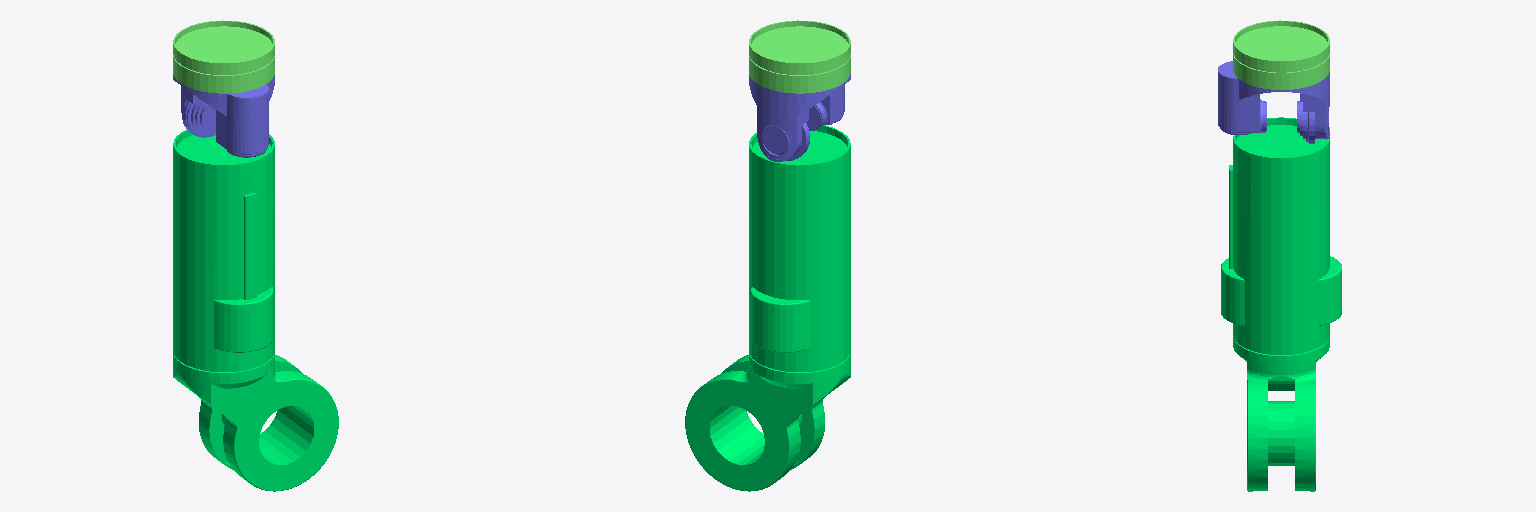
URDF robot description (WAM_URDF):
<robot
  name="WAM_URDF">
  <link
    name="wam_base">
    <inertial>
      <origin
        xyz="0.128100378751 0.140050620353168 0.0674748862235675"
        rpy="0 0 0" />
      <mass
        value="2.67334422899553" />
      <inertia
        ixx="0.0339063248578931"
        ixy="-1.70259359224035E-05"
        ixz="-0.00415581153259521"
        iyy="0.0421275847678088"
        iyz="-4.62615890481681E-06"
        izz="0.0554123689090636" />
    </inertial>
    <visual>
      <origin
        xyz="0 0 0"
        rpy="0 0 0" />
      <geometry>
        <mesh
          filename="package://WAM_URDF/meshes/wam_base.STL" />
      </geometry>
      <material
        name="">
        <color
          rgba="1 0 0 0.0499999999999999" />
      </material>
    </visual>
    <collision>
      <origin
        xyz="0 0 0"
        rpy="0 0 0" />
      <geometry>
        <mesh
          filename="package://WAM_URDF/meshes/wam_base.STL" />
      </geometry>
    </collision>
  </link>
  <link
    name="wam1">
    <inertial>
      <origin
        xyz="2.47322933838584E-08 -2.96918586208124E-09 -0.0794969740283547"
        rpy="0 0 0" />
      <mass
        value="12.6535414859626" />
      <inertia
        ixx="0.199822402581019"
        ixy="8.47009166946166E-08"
        ixz="-3.73911497625684E-08"
        iyy="0.107087726204064"
        iyz="2.75172142196796E-09"
        izz="0.171850063229757" />
    </inertial>
    <visual>
      <origin
        xyz="0 0 0"
        rpy="0 0 0" />
      <geometry>
        <mesh
          filename="package://WAM_URDF/meshes/wam1.STL" />
      </geometry>
      <material
        name="">
        <color
          rgba="0.501960784313725 0.501960784313725 0.501960784313725 0.0499999999999999" />
      </material>
    </visual>
    <collision>
      <origin
        xyz="0 0 0"
        rpy="0 0 0" />
      <geometry>
        <mesh
          filename="package://WAM_URDF/meshes/wam1.STL" />
      </geometry>
    </collision>
  </link>
  <joint
    name="j1"
    type="continuous">
    <origin
      xyz="0.22 0.14 0.346"
      rpy="-1.11266916865798E-16 0 0" />
    <parent
      link="wam_base" />
    <child
      link="wam1" />
    <axis
      xyz="0 0 -1" />
  </joint>
  <link
    name="wam2">
    <inertial>
      <origin
        xyz="-1.68500531002895E-06 -0.0504690286262692 1.0317185817269E-06"
        rpy="0 0 0" />
      <mass
        value="0.437815219798137" />
      <inertia
        ixx="0.00161441364764365"
        ixy="-3.33213428010297E-08"
        ixz="-3.42708638284823E-08"
        iyy="0.00132132178685251"
        iyz="-8.89408494101075E-09"
        izz="0.00183374073419955" />
    </inertial>
    <visual>
      <origin
        xyz="0 0 0"
        rpy="0 0 0" />
      <geometry>
        <mesh
          filename="package://WAM_URDF/meshes/wam2.STL" />
      </geometry>
      <material
        name="">
        <color
          rgba="0.937254901960784 0.674509803921569 0.113725490196078 1" />
      </material>
    </visual>
    <collision>
      <origin
        xyz="0 0 0"
        rpy="0 0 0" />
      <geometry>
        <mesh
          filename="package://WAM_URDF/meshes/wam2.STL" />
      </geometry>
    </collision>
  </link>
  <joint
    name="j2"
    type="continuous">
    <origin
      xyz="0 0 0"
      rpy="-1.5707963267949 -4.02814495500316E-16 -3.94430452610506E-31" />
    <parent
      link="wam1" />
    <child
      link="wam2" />
    <axis
      xyz="0 0 -1" />
  </joint>
  <link
    name="wam3">
    <inertial>
      <origin
        xyz="0.0130868978725476 -9.05815538026068E-06 0.448714683040612"
        rpy="0 0 0" />
      <mass
        value="5.14343147836089E-05" />
      <inertia
        ixx="1.12691041047209E-06"
        ixy="-9.94778283952349E-12"
        ixz="6.553949511979E-08"
        iyy="1.1140362581574E-06"
        iyz="-4.20859101779572E-11"
        izz="1.08418369812442E-07" />
    </inertial>
    <visual>
      <origin
        xyz="0 0 0"
        rpy="0 0 0" />
      <geometry>
        <mesh
          filename="package://WAM_URDF/meshes/wam3.STL" />
      </geometry>
      <material
        name="">
        <color
          rgba="0.501960784313725 1 1 1" />
      </material>
    </visual>
    <collision>
      <origin
        xyz="0 0 0"
        rpy="0 0 0" />
      <geometry>
        <mesh
          filename="package://WAM_URDF/meshes/wam3.STL" />
      </geometry>
    </collision>
  </link>
  <joint
    name="j3"
    type="continuous">
    <origin
      xyz="0 0 0"
      rpy="1.5707963267949 -3.94430452610506E-31 4.02814495500316E-16" />
    <parent
      link="wam2" />
    <child
      link="wam3" />
    <axis
      xyz="0 0 1" />
  </joint>
  <link
    name="wam4">
    <inertial>
      <origin
        xyz="-0.0431264796810621 -0.150741212865866 -0.00013035870381775"
        rpy="0 0 0" />
      <mass
        value="1.53559449158938" />
      <inertia
        ixx="0.00884513150794335"
        ixy="0.000443161529933271"
        ixz="3.72171152601296E-07"
        iyy="0.00173788879693172"
        iyz="9.82700862828556E-06"
        izz="0.00890058241554245" />
    </inertial>
    <visual>
      <origin
        xyz="0 0 0"
        rpy="0 0 0" />
      <geometry>
        <mesh
          filename="package://WAM_URDF/meshes/wam4.STL" />
      </geometry>
      <material
        name="">
        <color
          rgba="0 1 0.501960784313725 1" />
      </material>
    </visual>
    <collision>
      <origin
        xyz="0 0 0"
        rpy="0 0 0" />
      <geometry>
        <mesh
          filename="package://WAM_URDF/meshes/wam4.STL" />
      </geometry>
    </collision>
  </link>
  <joint
    name="j4"
    type="continuous">
    <origin
      xyz="0.0450000000000029 0 0.550000000000001"
      rpy="-1.5707963267949 0 0" />
    <parent
      link="wam3" />
    <child
      link="wam4" />
    <axis
      xyz="0 0 1" />
  </joint>
  <link
    name="wam5">
    <inertial>
      <origin
        xyz="-1.89899193872626E-08 6.87427326586231E-14 0.291553583928998"
        rpy="0 0 0" />
      <mass
        value="0.149006334634453" />
      <inertia
        ixx="6.71209654106184E-05"
        ixy="-4.97920688325463E-11"
        ixz="-8.15221637554834E-11"
        iyy="8.68252417088456E-05"
        iyz="-8.32554057768526E-12"
        izz="8.70771750035721E-05" />
    </inertial>
    <visual>
      <origin
        xyz="0 0 0"
        rpy="0 0 0" />
      <geometry>
        <mesh
          filename="package://WAM_URDF/meshes/wam5.STL" />
      </geometry>
      <material
        name="">
        <color
          rgba="0.909803921568627 0.443137254901961 0.0313725490196078 1" />
      </material>
    </visual>
    <collision>
      <origin
        xyz="0 0 0"
        rpy="0 0 0" />
      <geometry>
        <mesh
          filename="package://WAM_URDF/meshes/wam5.STL" />
      </geometry>
    </collision>
  </link>
  <joint
    name="j5"
    type="continuous">
    <origin
      xyz="-0.0449999999999992 0 0"
      rpy="1.5707963267949 0 0" />
    <parent
      link="wam4" />
    <child
      link="wam5" />
    <axis
      xyz="0 0 -1" />
  </joint>
  <link
    name="wam6">
    <inertial>
      <origin
        xyz="9.92879555390825E-08 -0.0240107071927176 -0.00776584967676935"
        rpy="0 0 0" />
      <mass
        value="0.186433706842734" />
      <inertia
        ixx="0.000275140565643375"
        ixy="6.68240023709023E-11"
        ixz="8.93700712018657E-10"
        iyy="0.000229085870839595"
        iyz="5.89760695551253E-06"
        izz="0.000135295072223808" />
    </inertial>
    <visual>
      <origin
        xyz="0 0 0"
        rpy="0 0 0" />
      <geometry>
        <mesh
          filename="package://WAM_URDF/meshes/wam6.STL" />
      </geometry>
      <material
        name="">
        <color
          rgba="0.501960784313725 0.501960784313725 1 1" />
      </material>
    </visual>
    <collision>
      <origin
        xyz="0 0 0"
        rpy="0 0 0" />
      <geometry>
        <mesh
          filename="package://WAM_URDF/meshes/wam6.STL" />
      </geometry>
    </collision>
  </link>
  <joint
    name="j6"
    type="continuous">
    <origin
      xyz="0 0 0.3"
      rpy="-1.5707963267949 0 0" />
    <parent
      link="wam5" />
    <child
      link="wam6" />
    <axis
      xyz="0 0 -1" />
  </joint>
  <link
    name="wam7">
    <inertial>
      <origin
        xyz="4.15505577083369E-17 1.19739847441858E-17 0.0631914020340758"
        rpy="0 0 0" />
      <mass
        value="0.110863010879355" />
      <inertia
        ixx="6.36716939587249E-05"
        ixy="1.5958000178719E-34"
        ixz="-1.23540333373179E-20"
        iyy="6.36716939587249E-05"
        iyz="-2.33773138495567E-21"
        izz="0.00012027473419511" />
    </inertial>
    <visual>
      <origin
        xyz="0 0 0"
        rpy="0 0 0" />
      <geometry>
        <mesh
          filename="package://WAM_URDF/meshes/wam7.STL" />
      </geometry>
      <material
        name="">
        <color
          rgba="0.501960784313725 1 0.501960784313725 1" />
      </material>
    </visual>
    <collision>
      <origin
        xyz="0 0 0"
        rpy="0 0 0" />
      <geometry>
        <mesh
          filename="package://WAM_URDF/meshes/wam7.STL" />
      </geometry>
    </collision>
  </link>
  <joint
    name="j7"
    type="continuous">
    <origin
      xyz="0 0 0"
      rpy="1.5707963267949 0 0" />
    <parent
      link="wam6" />
    <child
      link="wam7" />
    <axis
      xyz="0 0 1" />
  </joint>
</robot>

--- What the picture shows (computed from the rendered views, not written in the file) ---
The picture shows the robot from 3 angles, left to right: view 1: azimuth 30°, elevation 25°; view 2: azimuth 150°, elevation 25°; view 3: azimuth 270°, elevation 25°; orthographic projection.
Robot: WAM_URDF — 8 links, 7 joints (7 continuous); root link wam_base; default pose: all joints at 0.
Visible links, largest first — view 1: wam4, wam7, wam6; view 2: wam4, wam7, wam6; view 3: wam4, wam7, wam6.
Link boxes in pixels (x1,y1,x2,y2): wam4: [173, 130, 338, 491]; wam7: [173, 20, 274, 93]; wam6: [173, 74, 274, 157]; wam4: [685, 125, 850, 491]; wam7: [749, 20, 850, 93]; wam6: [749, 74, 850, 161]; wam4: [1221, 117, 1341, 491]; wam7: [1233, 20, 1329, 89]; wam6: [1218, 61, 1329, 143].
Size in the robot's own frame: 0.1425 by 0.1144 by 0.43 metres.
3 mesh visuals loaded from 8 distinct referenced files (3 binary STL); not drawn: 5 (reference not matched to a file when rendering).